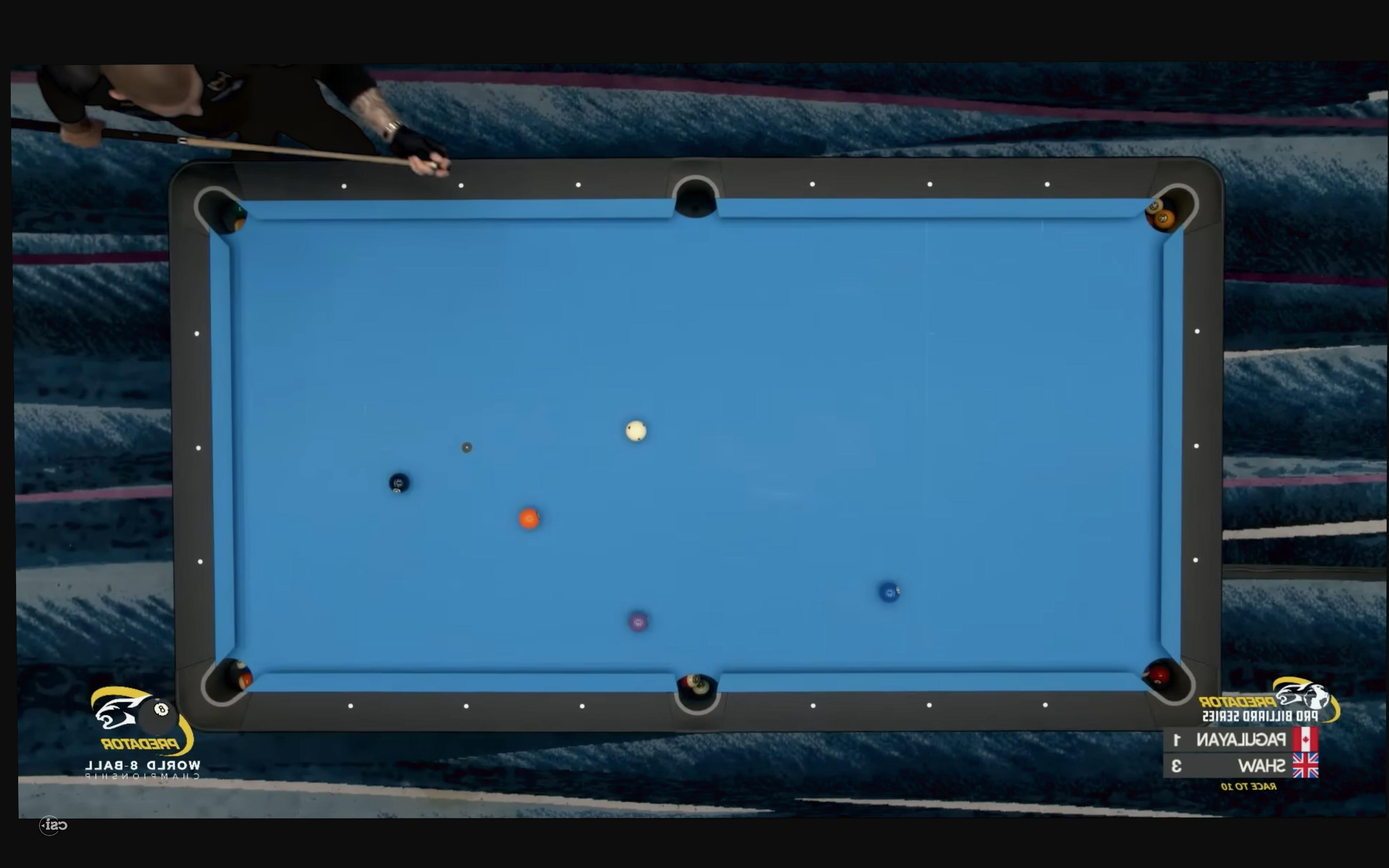Black: (347, 702, 354, 709), (193, 330, 200, 337), (457, 182, 464, 189), (579, 702, 585, 710), (1194, 328, 1200, 335), (1193, 443, 1200, 449), (926, 702, 933, 708), (810, 702, 816, 709), (463, 703, 469, 710), (195, 445, 202, 451), (575, 182, 582, 188), (809, 181, 816, 187), (927, 181, 934, 187), (1193, 557, 1199, 563), (1042, 702, 1048, 708), (197, 559, 203, 565), (341, 183, 347, 189), (1044, 181, 1050, 187)
Cue: (877, 580, 900, 604), (518, 507, 541, 530), (629, 610, 649, 633)
Solid: (387, 471, 412, 496)
Stripe: (624, 420, 649, 443)
